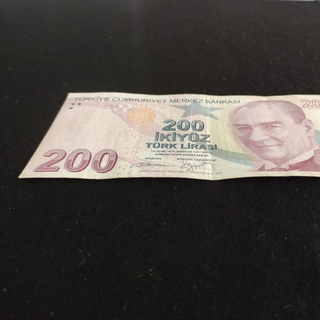200TLFront: (18, 91, 320, 181)
